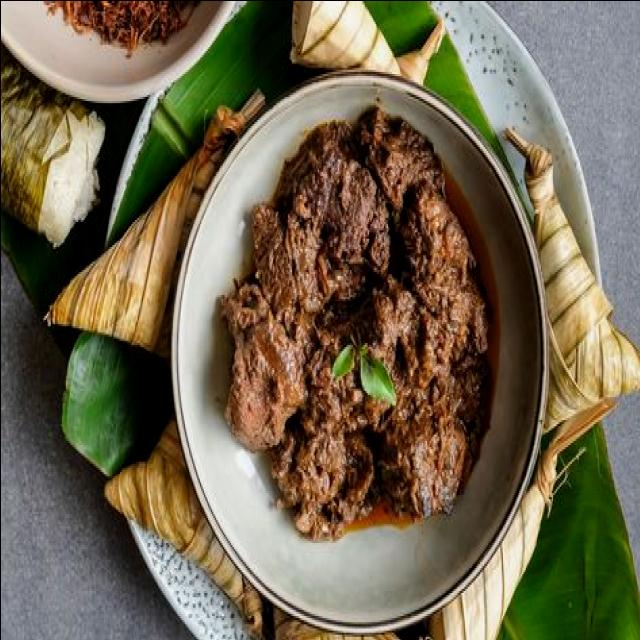rendang: (203, 96, 495, 544)
